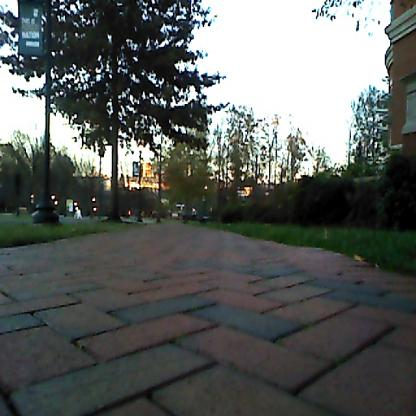Edge: (232, 225, 416, 296)
Sidewalk: (0, 224, 416, 416)
